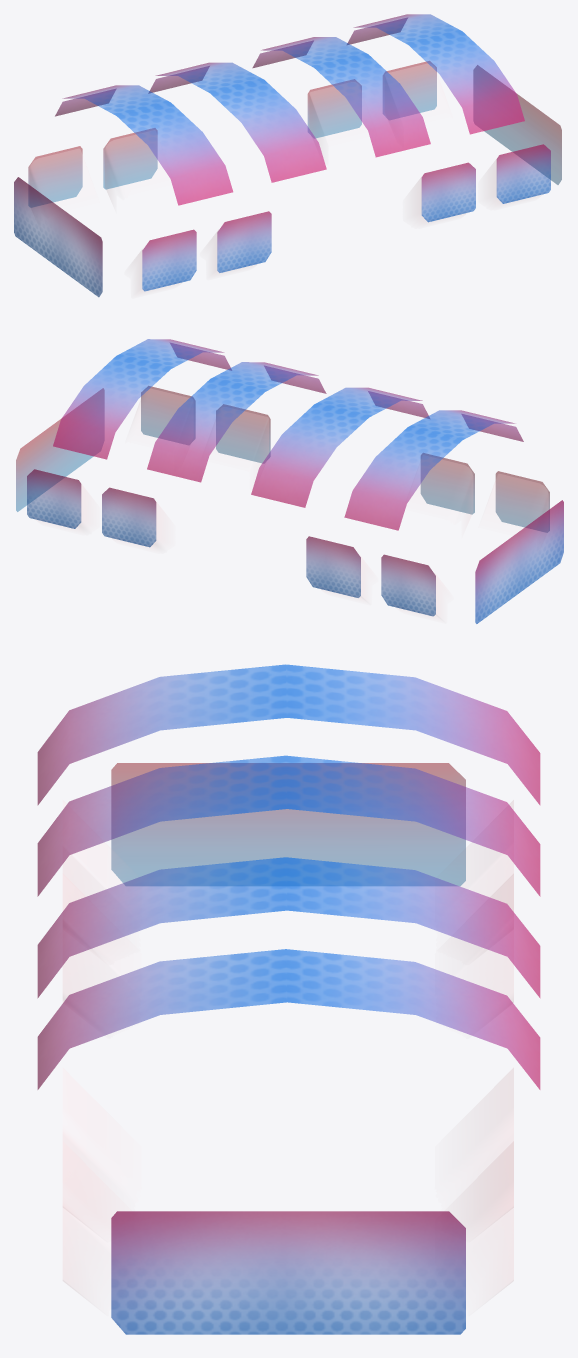
Rendered from genesis_tram_windows.glb.
3 views of the same model, one above another, from view 1: azimuth 30°, elevation 25°; view 2: azimuth 150°, elevation 25°; view 3: azimuth 270°, elevation 25° (orthographic). The views are drawn at different scales.
Visible parts, largest first — view 1: genesis_tram_windows; view 2: genesis_tram_windows; view 3: genesis_tram_windows.
Part boxes in pixels (bbox=[...]): genesis_tram_windows: bbox=[14, 14, 561, 296]; genesis_tram_windows: bbox=[16, 339, 563, 623]; genesis_tram_windows: bbox=[37, 664, 540, 1334].
Size of the model in its own units: 14.25 by 4.87 by 6.72.
Materials: 1 (1 with a texture image).
